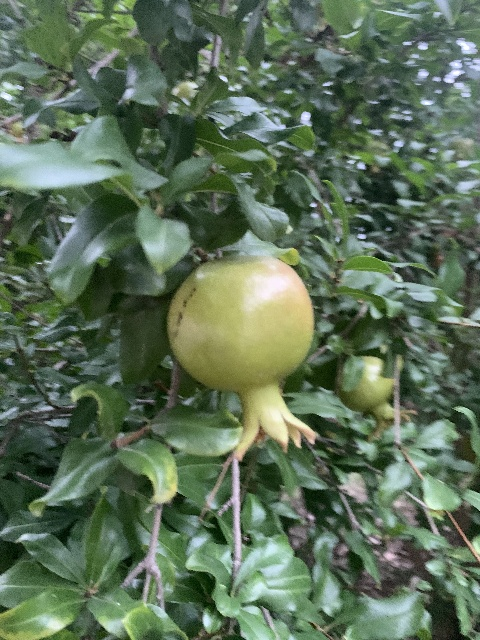mid-growth: (165, 254, 318, 460), (335, 354, 415, 440)
